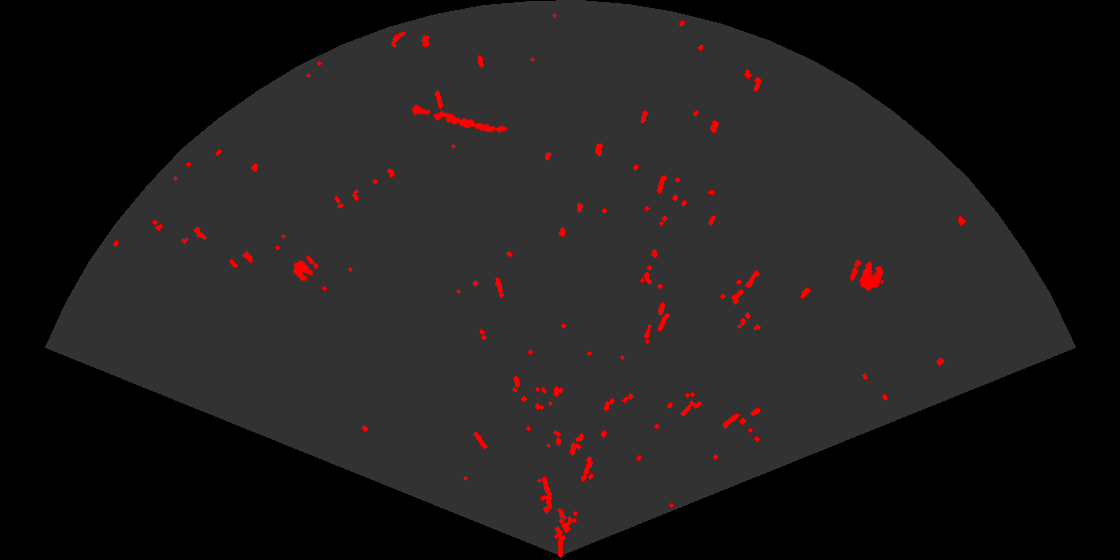ball: (848, 258, 885, 293), (291, 254, 320, 283)
chain: (409, 103, 509, 134)
